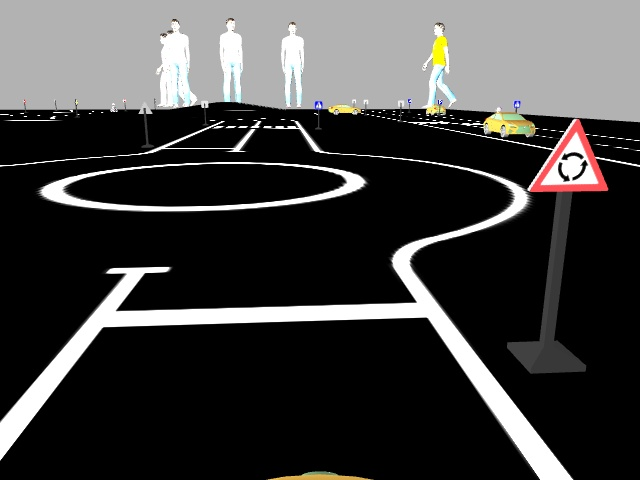Roundabout: (521, 117, 611, 194)
